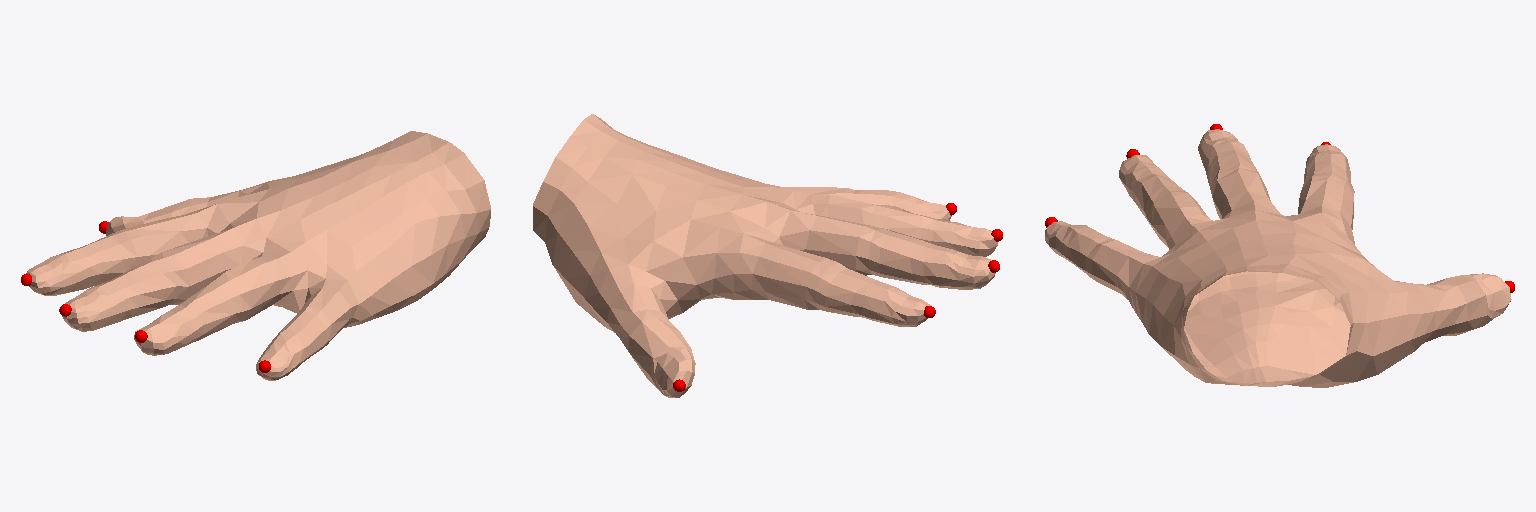
robot.urdf — mano_hand:
<?xml version='1.0' encoding='UTF-8'?>
<robot name="mano_hand">
  <material name="skin_color">
    <color rgba="0.95 0.75 0.65 1.0"/>
  </material>
  <material name="tip_marker_red">
    <color rgba="1.0 0.0 0.0 1.0"/>
  </material>
  <link name="base_link">
    <inertial>
      <origin xyz="0 0 0" rpy="0 0 0"/>
      <mass value="0.001"/>
      <inertia ixx="1e-6" ixy="0" ixz="0" iyy="1e-6" iyz="0" izz="1e-6"/>
    </inertial>
  </link>
  <joint name="ARTx" type="prismatic">
    <parent link="base_link"/>
    <child link="ARTx_link"/>
    <origin xyz="0 0 0" rpy="0 0 0"/>
    <axis xyz="1 0 0"/>
    <limit lower="-2.0" upper="2.0" effort="1000" velocity="100.0"/>
    <dynamics damping="1.0" friction="0.05"/>
  </joint>
  <link name="ARTx_link">
    <inertial>
      <origin xyz="0 0 0" rpy="0 0 0"/>
      <mass value="0.001"/>
      <inertia ixx="1e-6" ixy="0" ixz="0" iyy="1e-6" iyz="0" izz="1e-6"/>
    </inertial>
  </link>
  <joint name="ARTy" type="prismatic">
    <parent link="ARTx_link"/>
    <child link="ARTy_link"/>
    <origin xyz="0 0 0" rpy="0 0 0"/>
    <axis xyz="0 1 0"/>
    <limit lower="-2.0" upper="2.0" effort="1000" velocity="100.0"/>
    <dynamics damping="1.0" friction="0.05"/>
  </joint>
  <link name="ARTy_link">
    <inertial>
      <origin xyz="0 0 0" rpy="0 0 0"/>
      <mass value="0.001"/>
      <inertia ixx="1e-6" ixy="0" ixz="0" iyy="1e-6" iyz="0" izz="1e-6"/>
    </inertial>
  </link>
  <joint name="ARTz" type="prismatic">
    <parent link="ARTy_link"/>
    <child link="ARTz_link"/>
    <origin xyz="0 0 0" rpy="0 0 0"/>
    <axis xyz="0 0 1"/>
    <limit lower="-2.0" upper="2.0" effort="1000" velocity="100.0"/>
    <dynamics damping="1.0" friction="0.05"/>
  </joint>
  <link name="ARTz_link">
    <inertial>
      <origin xyz="0 0 0" rpy="0 0 0"/>
      <mass value="0.001"/>
      <inertia ixx="1e-6" ixy="0" ixz="0" iyy="1e-6" iyz="0" izz="1e-6"/>
    </inertial>
  </link>
  <joint name="ARRx" type="revolute">
    <parent link="ARTz_link"/>
    <child link="ARRx_link"/>
    <origin xyz="0 0 0" rpy="0 0 0"/>
    <axis xyz="1 0 0"/>
    <limit lower="-9.42478" upper="9.42478" effort="1000" velocity="100.0"/>
    <dynamics damping="1.0" friction="0.05"/>
  </joint>
  <link name="ARRx_link">
    <inertial>
      <origin xyz="0 0 0" rpy="0 0 0"/>
      <mass value="0.001"/>
      <inertia ixx="1e-6" ixy="0" ixz="0" iyy="1e-6" iyz="0" izz="1e-6"/>
    </inertial>
  </link>
  <joint name="ARRy" type="revolute">
    <parent link="ARRx_link"/>
    <child link="ARRy_link"/>
    <origin xyz="0 0 0" rpy="0 0 0"/>
    <axis xyz="0 1 0"/>
    <limit lower="-9.42478" upper="9.42478" effort="1000" velocity="100.0"/>
    <dynamics damping="1.0" friction="0.05"/>
  </joint>
  <link name="ARRy_link">
    <inertial>
      <origin xyz="0 0 0" rpy="0 0 0"/>
      <mass value="0.001"/>
      <inertia ixx="1e-6" ixy="0" ixz="0" iyy="1e-6" iyz="0" izz="1e-6"/>
    </inertial>
  </link>
  <joint name="ARRz" type="revolute">
    <parent link="ARRy_link"/>
    <child link="ARRz_link"/>
    <origin xyz="0 0 0" rpy="0 0 0"/>
    <axis xyz="0 0 1"/>
    <limit lower="-9.42478" upper="9.42478" effort="1000" velocity="100.0"/>
    <dynamics damping="1.0" friction="0.05"/>
  </joint>
  <link name="ARRz_link">
    <inertial>
      <origin xyz="0 0 0" rpy="0 0 0"/>
      <mass value="0.001"/>
      <inertia ixx="1e-6" ixy="0" ixz="0" iyy="1e-6" iyz="0" izz="1e-6"/>
    </inertial>
  </link>
  <joint name="palm_joint" type="fixed">
    <parent link="ARRz_link"/>
    <child link="palm"/>
    <origin xyz="0 0 0" rpy="1.5708 0 3.1416"/>
  </joint>
  <link name="palm">
    <inertial>
      <origin xyz="0 0 0" rpy="0 0 0"/>
      <mass value="0.02"/>
      <inertia ixx="1e-4" ixy="0" ixz="0" iyy="1e-4" iyz="0" izz="1e-4"/>
    </inertial>
    <visual>
      <geometry>
        <mesh filename="meshes/visual_palm.stl"/>
      </geometry>
      <material name="skin_color"/>
    </visual>
    <collision>
      <geometry>
        <mesh filename="meshes/palm.stl" scale="0.7 0.7 0.7"/>
      </geometry>
    </collision>
  </link>
  <joint name="j1_thumb_cmc_abd" type="revolute">
    <parent link="palm"/>
    <child link="thumb_cmc_abd"/>
    <origin xyz="0.023475066 -0.016210224 0.026734147" rpy="0 0 0"/>
    <axis xyz="0.14622723 -0.95447963 -0.25997362"/>
    <limit lower="-1.175" upper="2.621" effort="100.0" velocity="100.0"/>
  </joint>
  <link name="thumb_cmc_abd">
    <inertial>
      <origin xyz="0 0 0" rpy="0 0 0"/>
      <mass value="0.001"/>
      <inertia ixx="1e-6" ixy="0" ixz="0" iyy="1e-6" iyz="0" izz="1e-6"/>
    </inertial>
  </link>
  <joint name="j1_thumb_cmc_flex" type="revolute">
    <parent link="thumb_cmc_abd"/>
    <child link="thumb_cmc_flex"/>
    <origin xyz="0 0 0" rpy="0 0 0"/>
    <axis xyz="0.9812959 0.17321378 -0.08399638"/>
    <limit lower="-2.0" upper="1.97" effort="100.0" velocity="100.0"/>
  </joint>
  <link name="thumb_cmc_flex">
    <inertial>
      <origin xyz="0 0 0" rpy="0 0 0"/>
      <mass value="0.001"/>
      <inertia ixx="1e-6" ixy="0" ixz="0" iyy="1e-6" iyz="0" izz="1e-6"/>
    </inertial>
  </link>
  <joint name="j1_thumb_cmc_twist" type="revolute">
    <parent link="thumb_cmc_flex"/>
    <child link="thumb_cmc"/>
    <origin xyz="0 0 0" rpy="0 0 0"/>
    <axis xyz="0.12520385 -0.24282849 0.9619555"/>
    <limit lower="-1.5708" upper="1.5708" effort="100.0" velocity="100.0"/>
  </joint>
  <link name="thumb_cmc">
    <inertial>
      <origin xyz="0 0 0" rpy="0 0 0"/>
      <mass value="0.01"/>
      <inertia ixx="1e-5" ixy="0" ixz="0" iyy="1e-5" iyz="0" izz="1e-5"/>
    </inertial>
    <visual>
      <geometry>
        <mesh filename="meshes/visual_thumb1.stl"/>
      </geometry>
      <material name="skin_color"/>
    </visual>
    <collision>
      <geometry>
        <mesh filename="meshes/thumb1.stl"/>
      </geometry>
    </collision>
  </link>
  <joint name="j1_thumb_mcp_flex" type="revolute">
    <parent link="thumb_cmc"/>
    <child link="thumb_mcp_flex"/>
    <origin xyz="0.019310433 0.0012230678 0.024574954" rpy="0 0 0"/>
    <axis xyz="0.37250043368803304 0.882215473004522 -0.2879918160185022"/>
    <limit lower="0.0" upper="1.745" effort="100.0" velocity="100.0"/>
  </joint>
  <link name="thumb_mcp_flex">
    <inertial>
      <origin xyz="0 0 0" rpy="0 0 0"/>
      <mass value="0.001"/>
      <inertia ixx="1e-6" ixy="0" ixz="0" iyy="1e-6" iyz="0" izz="1e-6"/>
    </inertial>
  </link>
  <joint name="j1_thumb_mcp_abd" type="revolute">
    <parent link="thumb_mcp_flex"/>
    <child link="thumb_mcp"/>
    <origin xyz="0 0 0" rpy="0 0 0"/>
    <axis xyz="0.5869460930683307 -0.46433670072876887 -0.6632388047966917"/>
    <limit lower="-0.7" upper="0.7" effort="100.0" velocity="100.0"/>
  </joint>
  <link name="thumb_mcp">
    <inertial>
      <origin xyz="0 0 0" rpy="0 0 0"/>
      <mass value="0.01"/>
      <inertia ixx="1e-5" ixy="0" ixz="0" iyy="1e-5" iyz="0" izz="1e-5"/>
    </inertial>
    <visual>
      <geometry>
        <mesh filename="meshes/visual_thumb2.stl"/>
      </geometry>
      <material name="skin_color"/>
    </visual>
    <collision>
      <geometry>
        <mesh filename="meshes/thumb2.stl"/>
      </geometry>
    </collision>
  </link>
  <joint name="j1_thumb_ip" type="revolute">
    <parent link="thumb_mcp"/>
    <child link="thumb_ip"/>
    <origin xyz="0.021707261 -0.0056749955 0.01484127" rpy="0 0 0"/>
    <axis xyz="0.37250043368803304 0.882215473004522 -0.2879918160185022"/>
    <limit lower="0.0" upper="1.745" effort="100.0" velocity="100.0"/>
  </joint>
  <link name="thumb_ip">
    <inertial>
      <origin xyz="0 0 0" rpy="0 0 0"/>
      <mass value="0.01"/>
      <inertia ixx="1e-5" ixy="0" ixz="0" iyy="1e-5" iyz="0" izz="1e-5"/>
    </inertial>
    <visual>
      <geometry>
        <mesh filename="meshes/visual_thumb3.stl"/>
      </geometry>
      <material name="skin_color"/>
    </visual>
    <visual>
      <origin xyz="0.0253767204 -0.00300318655 0.0244902596" rpy="0 0 0"/>
      <geometry>
        <sphere radius="0.0025"/>
      </geometry>
      <material name="tip_marker_red"/>
    </visual>
    <collision>
      <geometry>
        <mesh filename="meshes/thumb3.stl"/>
      </geometry>
    </collision>
  </link>
  <joint name="j2_index_mcp_abd" type="revolute">
    <parent link="palm"/>
    <child link="index_mcp_abd"/>
    <origin xyz="0.08561257 -0.0052420013 0.021415338" rpy="0 0 0"/>
    <axis xyz="0.06452477422609466 0.9979161054472823 -0.0"/>
    <limit lower="-0.349" upper="0.349" effort="100.0" velocity="100.0"/>
  </joint>
  <link name="index_mcp_abd">
    <inertial>
      <origin xyz="0 0 0" rpy="0 0 0"/>
      <mass value="0.001"/>
      <inertia ixx="1e-6" ixy="0" ixz="0" iyy="1e-6" iyz="0" izz="1e-6"/>
    </inertial>
  </link>
  <joint name="j2_index_mcp_flex" type="revolute">
    <parent link="index_mcp_abd"/>
    <child link="index_mcp"/>
    <origin xyz="0 0 0" rpy="0 0 0"/>
    <axis xyz="-0.007903891195637423 0.0005110617937943122 -0.9999686331679662"/>
    <limit lower="-0.175" upper="1.571" effort="100.0" velocity="100.0"/>
  </joint>
  <link name="index_mcp">
    <inertial>
      <origin xyz="0 0 0" rpy="0 0 0"/>
      <mass value="0.01"/>
      <inertia ixx="1e-5" ixy="0" ixz="0" iyy="1e-5" iyz="0" izz="1e-5"/>
    </inertial>
    <visual>
      <geometry>
        <mesh filename="meshes/visual_index1.stl"/>
      </geometry>
      <material name="skin_color"/>
    </visual>
    <collision>
      <geometry>
        <mesh filename="meshes/index1.stl"/>
      </geometry>
    </collision>
  </link>
  <joint name="j2_index_pip" type="revolute">
    <parent link="index_mcp"/>
    <child link="index_pip"/>
    <origin xyz="0.031947784 0.0039509865 0.0023879725" rpy="0 0 0"/>
    <axis xyz="-0.007903891195637423 0.0005110617937943122 -0.9999686331679662"/>
    <limit lower="0.0" upper="1.745" effort="100.0" velocity="100.0"/>
  </joint>
  <link name="index_pip">
    <inertial>
      <origin xyz="0 0 0" rpy="0 0 0"/>
      <mass value="0.01"/>
      <inertia ixx="1e-5" ixy="0" ixz="0" iyy="1e-5" iyz="0" izz="1e-5"/>
    </inertial>
    <visual>
      <geometry>
        <mesh filename="meshes/visual_index2.stl"/>
      </geometry>
      <material name="skin_color"/>
    </visual>
    <collision>
      <geometry>
        <mesh filename="meshes/index2.stl"/>
      </geometry>
    </collision>
  </link>
  <joint name="j2_index_dip" type="revolute">
    <parent link="index_pip"/>
    <child link="index_dip"/>
    <origin xyz="0.021657292 -0.0014003501 -0.00017189793" rpy="0 0 0"/>
    <axis xyz="-0.007903891195637423 0.0005110617937943122 -0.9999686331679662"/>
    <limit lower="0.0" upper="1.745" effort="100.0" velocity="100.0"/>
  </joint>
  <link name="index_dip">
    <inertial>
      <origin xyz="0 0 0" rpy="0 0 0"/>
      <mass value="0.01"/>
      <inertia ixx="1e-5" ixy="0" ixz="0" iyy="1e-5" iyz="0" izz="1e-5"/>
    </inertial>
    <visual>
      <geometry>
        <mesh filename="meshes/visual_index3.stl"/>
      </geometry>
      <material name="skin_color"/>
    </visual>
    <visual>
      <origin xyz="0.0249083675 0.000962134916 -0.000523941591" rpy="0 0 0"/>
      <geometry>
        <sphere radius="0.0025"/>
      </geometry>
      <material name="tip_marker_red"/>
    </visual>
    <collision>
      <geometry>
        <mesh filename="meshes/index3.stl"/>
      </geometry>
    </collision>
  </link>
  <joint name="j3_middle_mcp_abd" type="revolute">
    <parent link="palm"/>
    <child link="middle_mcp_abd"/>
    <origin xyz="0.09203192 -0.0013956837 -0.0034511378" rpy="0 0 0"/>
    <axis xyz="0.062129144 0.9978895 0.018879913"/>
    <limit lower="-0.524" upper="0.349" effort="100.0" velocity="100.0"/>
  </joint>
  <link name="middle_mcp_abd">
    <inertial>
      <origin xyz="0 0 0" rpy="0 0 0"/>
      <mass value="0.001"/>
      <inertia ixx="1e-6" ixy="0" ixz="0" iyy="1e-6" iyz="0" izz="1e-6"/>
    </inertial>
  </link>
  <joint name="j3_middle_mcp_flex" type="revolute">
    <parent link="middle_mcp_abd"/>
    <child link="middle_mcp"/>
    <origin xyz="0 0 0" rpy="0 0 0"/>
    <axis xyz="-0.17736092 0.029654019 -0.983699"/>
    <limit lower="-0.175" upper="1.571" effort="100.0" velocity="100.0"/>
  </joint>
  <link name="middle_mcp">
    <inertial>
      <origin xyz="0 0 0" rpy="0 0 0"/>
      <mass value="0.01"/>
      <inertia ixx="1e-5" ixy="0" ixz="0" iyy="1e-5" iyz="0" izz="1e-5"/>
    </inertial>
    <visual>
      <geometry>
        <mesh filename="meshes/visual_middle1.stl"/>
      </geometry>
      <material name="skin_color"/>
    </visual>
    <collision>
      <geometry>
        <mesh filename="meshes/middle1.stl"/>
      </geometry>
    </collision>
  </link>
  <joint name="j3_middle_pip" type="revolute">
    <parent link="middle_mcp"/>
    <child link="middle_pip"/>
    <origin xyz="0.030459391 0.0017434619 -0.0056828517" rpy="0 0 0"/>
    <axis xyz="-0.17736092 0.029654019 -0.983699"/>
    <limit lower="0.0" upper="1.745" effort="100.0" velocity="100.0"/>
  </joint>
  <link name="middle_pip">
    <inertial>
      <origin xyz="0 0 0" rpy="0 0 0"/>
      <mass value="0.01"/>
      <inertia ixx="1e-5" ixy="0" ixz="0" iyy="1e-5" iyz="0" izz="1e-5"/>
    </inertial>
    <visual>
      <geometry>
        <mesh filename="meshes/visual_middle2.stl"/>
      </geometry>
      <material name="skin_color"/>
    </visual>
    <collision>
      <geometry>
        <mesh filename="meshes/middle2.stl"/>
      </geometry>
    </collision>
  </link>
  <joint name="j3_middle_dip" type="revolute">
    <parent link="middle_pip"/>
    <child link="middle_dip"/>
    <origin xyz="0.0223769 -0.0013161143 -0.00407423" rpy="0 0 0"/>
    <axis xyz="-0.17736092 0.029654019 -0.983699"/>
    <limit lower="0.0" upper="1.745" effort="100.0" velocity="100.0"/>
  </joint>
  <link name="middle_dip">
    <inertial>
      <origin xyz="0 0 0" rpy="0 0 0"/>
      <mass value="0.01"/>
      <inertia ixx="1e-5" ixy="0" ixz="0" iyy="1e-5" iyz="0" izz="1e-5"/>
    </inertial>
    <visual>
      <geometry>
        <mesh filename="meshes/visual_middle3.stl"/>
      </geometry>
      <material name="skin_color"/>
    </visual>
    <visual>
      <origin xyz="0.0251169354 0.00392885879 -0.0042121741" rpy="0 0 0"/>
      <geometry>
        <sphere radius="0.0025"/>
      </geometry>
      <material name="tip_marker_red"/>
    </visual>
    <collision>
      <geometry>
        <mesh filename="meshes/middle3.stl"/>
      </geometry>
    </collision>
  </link>
  <joint name="j4_ring_mcp_abd" type="revolute">
    <parent link="palm"/>
    <child link="ring_mcp_abd"/>
    <origin xyz="0.079544656 -0.0039365287 -0.027616814" rpy="0 0 0"/>
    <axis xyz="0.037032835 0.9916655 -0.12340259"/>
    <limit lower="-0.524" upper="0.349" effort="100.0" velocity="100.0"/>
  </joint>
  <link name="ring_mcp_abd">
    <inertial>
      <origin xyz="0 0 0" rpy="0 0 0"/>
      <mass value="0.001"/>
      <inertia ixx="1e-6" ixy="0" ixz="0" iyy="1e-6" iyz="0" izz="1e-6"/>
    </inertial>
  </link>
  <joint name="j4_ring_mcp_flex" type="revolute">
    <parent link="ring_mcp_abd"/>
    <child link="ring_mcp"/>
    <origin xyz="0 0 0" rpy="0 0 0"/>
    <axis xyz="-0.3284884 -0.104545005 -0.93870425"/>
    <limit lower="-0.175" upper="1.571" effort="100.0" velocity="100.0"/>
  </joint>
  <link name="ring_mcp">
    <inertial>
      <origin xyz="0 0 0" rpy="0 0 0"/>
      <mass value="0.01"/>
      <inertia ixx="1e-5" ixy="0" ixz="0" iyy="1e-5" iyz="0" izz="1e-5"/>
    </inertial>
    <visual>
      <geometry>
        <mesh filename="meshes/visual_ring1.stl"/>
      </geometry>
      <material name="skin_color"/>
    </visual>
    <collision>
      <geometry>
        <mesh filename="meshes/ring1.stl"/>
      </geometry>
    </collision>
  </link>
  <joint name="j4_ring_pip" type="revolute">
    <parent link="ring_mcp"/>
    <child link="ring_pip"/>
    <origin xyz="0.027481843 0.002144217 -0.0052470323" rpy="0 0 0"/>
    <axis xyz="-0.3284884 -0.104545005 -0.93870425"/>
    <limit lower="0.0" upper="1.745" effort="100.0" velocity="100.0"/>
  </joint>
  <link name="ring_pip">
    <inertial>
      <origin xyz="0 0 0" rpy="0 0 0"/>
      <mass value="0.01"/>
      <inertia ixx="1e-5" ixy="0" ixz="0" iyy="1e-5" iyz="0" izz="1e-5"/>
    </inertial>
    <visual>
      <geometry>
        <mesh filename="meshes/visual_ring2.stl"/>
      </geometry>
      <material name="skin_color"/>
    </visual>
    <collision>
      <geometry>
        <mesh filename="meshes/ring2.stl"/>
      </geometry>
    </collision>
  </link>
  <joint name="j4_ring_dip" type="revolute">
    <parent link="ring_pip"/>
    <child link="ring_dip"/>
    <origin xyz="0.02287541 -0.0018251042 -0.0078017134" rpy="0 0 0"/>
    <axis xyz="-0.3284884 -0.104545005 -0.93870425"/>
    <limit lower="0.0" upper="1.745" effort="100.0" velocity="100.0"/>
  </joint>
  <link name="ring_dip">
    <inertial>
      <origin xyz="0 0 0" rpy="0 0 0"/>
      <mass value="0.01"/>
      <inertia ixx="1e-5" ixy="0" ixz="0" iyy="1e-5" iyz="0" izz="1e-5"/>
    </inertial>
    <visual>
      <geometry>
        <mesh filename="meshes/visual_ring3.stl"/>
      </geometry>
      <material name="skin_color"/>
    </visual>
    <visual>
      <origin xyz="0.0237780027 0.00388107379 -0.00751075149" rpy="0 0 0"/>
      <geometry>
        <sphere radius="0.0025"/>
      </geometry>
      <material name="tip_marker_red"/>
    </visual>
    <collision>
      <geometry>
        <mesh filename="meshes/ring3.stl"/>
      </geometry>
    </collision>
  </link>
  <joint name="j5_pinky_mcp_abd" type="revolute">
    <parent link="palm"/>
    <child link="pinky_mcp_abd"/>
    <origin xyz="0.067013994 -0.01024252 -0.044679318" rpy="0 0 0"/>
    <axis xyz="-0.13015692 0.95728177 -0.258207"/>
    <limit lower="-0.698" upper="0.349" effort="100.0" velocity="100.0"/>
  </joint>
  <link name="pinky_mcp_abd">
    <inertial>
      <origin xyz="0 0 0" rpy="0 0 0"/>
      <mass value="0.001"/>
      <inertia ixx="1e-6" ixy="0" ixz="0" iyy="1e-6" iyz="0" izz="1e-6"/>
    </inertial>
  </link>
  <joint name="j5_pinky_mcp_flex" type="revolute">
    <parent link="pinky_mcp_abd"/>
    <child link="pinky_mcp"/>
    <origin xyz="0 0 0" rpy="0 0 0"/>
    <axis xyz="-0.55133474 -0.28632545 -0.7836121"/>
    <limit lower="-0.175" upper="1.571" effort="100.0" velocity="100.0"/>
  </joint>
  <link name="pinky_mcp">
    <inertial>
      <origin xyz="0 0 0" rpy="0 0 0"/>
      <mass value="0.01"/>
      <inertia ixx="1e-5" ixy="0" ixz="0" iyy="1e-5" iyz="0" izz="1e-5"/>
    </inertial>
    <visual>
      <geometry>
        <mesh filename="meshes/visual_pinky1.stl"/>
      </geometry>
      <material name="skin_color"/>
    </visual>
    <collision>
      <geometry>
        <mesh filename="meshes/pinky1.stl"/>
      </geometry>
    </collision>
  </link>
  <joint name="j5_pinky_pip" type="revolute">
    <parent link="pinky_mcp"/>
    <child link="pinky_pip"/>
    <origin xyz="0.016450608 -8.2275365e-05 -0.0127552" rpy="0 0 0"/>
    <axis xyz="-0.55133474 -0.28632545 -0.7836121"/>
    <limit lower="0.0" upper="1.745" effort="100.0" velocity="100.0"/>
  </joint>
  <link name="pinky_pip">
    <inertial>
      <origin xyz="0 0 0" rpy="0 0 0"/>
      <mass value="0.01"/>
      <inertia ixx="1e-5" ixy="0" ixz="0" iyy="1e-5" iyz="0" izz="1e-5"/>
    </inertial>
    <visual>
      <geometry>
        <mesh filename="meshes/visual_pinky2.stl"/>
      </geometry>
      <material name="skin_color"/>
    </visual>
    <collision>
      <geometry>
        <mesh filename="meshes/pinky2.stl"/>
      </geometry>
    </collision>
  </link>
  <joint name="j5_pinky_dip" type="revolute">
    <parent link="pinky_pip"/>
    <child link="pinky_dip"/>
    <origin xyz="0.015324423 -0.0007506474 -0.010507695" rpy="0 0 0"/>
    <axis xyz="-0.55133474 -0.28632545 -0.7836121"/>
    <limit lower="0.0" upper="1.745" effort="100.0" velocity="100.0"/>
  </joint>
  <link name="pinky_dip">
    <inertial>
      <origin xyz="0 0 0" rpy="0 0 0"/>
      <mass value="0.01"/>
      <inertia ixx="1e-5" ixy="0" ixz="0" iyy="1e-5" iyz="0" izz="1e-5"/>
    </inertial>
    <visual>
      <geometry>
        <mesh filename="meshes/visual_pinky3.stl"/>
      </geometry>
      <material name="skin_color"/>
    </visual>
    <visual>
      <origin xyz="0.0165242348 0.00156218186 -0.0103372335" rpy="0 0 0"/>
      <geometry>
        <sphere radius="0.0025"/>
      </geometry>
      <material name="tip_marker_red"/>
    </visual>
    <collision>
      <geometry>
        <mesh filename="meshes/pinky3.stl"/>
      </geometry>
    </collision>
  </link>
</robot>

--- What the picture shows (computed from the rendered views, not written in the file) ---
The picture shows the robot from 3 angles, left to right: view 1: azimuth 30°, elevation 25°; view 2: azimuth 150°, elevation 25°; view 3: azimuth 270°, elevation 25°; orthographic projection.
Robot: mano_hand — 30 links, 29 joints (25 revolute, 3 prismatic, 1 fixed); root link base_link; default pose: every joint at zero.
Visible links, largest first — view 1: palm, middle_mcp, ring_mcp, middle_dip, ring_pip, index_mcp, index_dip, middle_pip, ring_dip, index_pip, pinky_mcp, pinky_dip (+3 smaller); view 2: palm, index_mcp, middle_mcp, thumb_mcp, thumb_ip, thumb_cmc, middle_dip, index_dip, middle_pip, index_pip, ring_dip, ring_mcp (+3 smaller); view 3: palm, thumb_cmc, thumb_mcp, thumb_ip, pinky_mcp, middle_mcp, ring_mcp, index_mcp, pinky_pip, ring_pip, middle_dip, ring_dip (+4 smaller).
Link boxes in pixels (bbox=[...]): palm: bbox=[195, 131, 490, 327]; middle_mcp: bbox=[143, 228, 242, 304]; ring_mcp: bbox=[217, 252, 306, 320]; middle_dip: bbox=[59, 278, 127, 331]; ring_pip: bbox=[175, 279, 250, 341]; index_mcp: bbox=[119, 209, 207, 264]; index_dip: bbox=[21, 248, 92, 295]; middle_pip: bbox=[107, 262, 176, 319]; ring_dip: bbox=[134, 308, 195, 355]; index_pip: bbox=[73, 231, 137, 285]; pinky_mcp: bbox=[299, 279, 358, 349]; pinky_dip: bbox=[256, 333, 304, 380]; palm: bbox=[533, 114, 803, 316]; index_mcp: bbox=[735, 243, 837, 309]; middle_mcp: bbox=[779, 210, 885, 275]; thumb_mcp: bbox=[596, 264, 677, 351]; thumb_ip: bbox=[629, 318, 695, 397]; thumb_cmc: bbox=[553, 228, 681, 326]; middle_dip: bbox=[923, 245, 999, 289]; index_dip: bbox=[863, 281, 935, 326]; middle_pip: bbox=[869, 229, 933, 284]; index_pip: bbox=[815, 263, 877, 319]; ring_dip: bbox=[932, 220, 1002, 256]; ring_mcp: bbox=[794, 191, 874, 223]; palm: bbox=[1124, 201, 1393, 387]; thumb_cmc: bbox=[1288, 277, 1423, 381]; thumb_mcp: bbox=[1395, 281, 1467, 350]; thumb_ip: bbox=[1430, 273, 1514, 335]; pinky_mcp: bbox=[1085, 240, 1159, 299]; middle_mcp: bbox=[1211, 163, 1279, 218]; ring_mcp: bbox=[1152, 191, 1212, 249]; index_mcp: bbox=[1298, 175, 1353, 229]; pinky_pip: bbox=[1061, 225, 1114, 276]; ring_pip: bbox=[1131, 174, 1184, 229]; middle_dip: bbox=[1198, 124, 1249, 169]; ring_dip: bbox=[1119, 149, 1165, 197].
Bounding box of the posed robot: 0.1901 × 0.1741 × 0.0634 m (x, y, z).
16 mesh visuals loaded from 16 distinct referenced files (16 binary STL).
